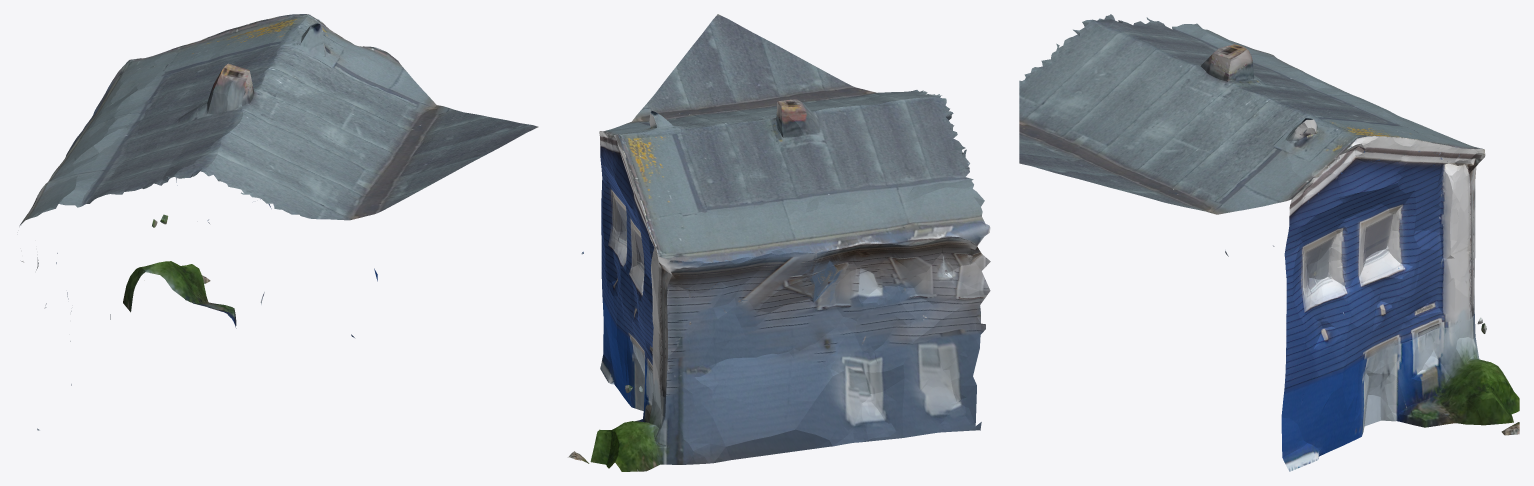
3 views of the same model, side by side, from view 1: azimuth 30°, elevation 25°; view 2: azimuth 150°, elevation 25°; view 3: azimuth 270°, elevation 25° (orthographic). The views are drawn at different scales.
Bounding box in the file's own units: 7.91 × 6.12 × 8.36.
Materials: 3 (3 with a texture image).
